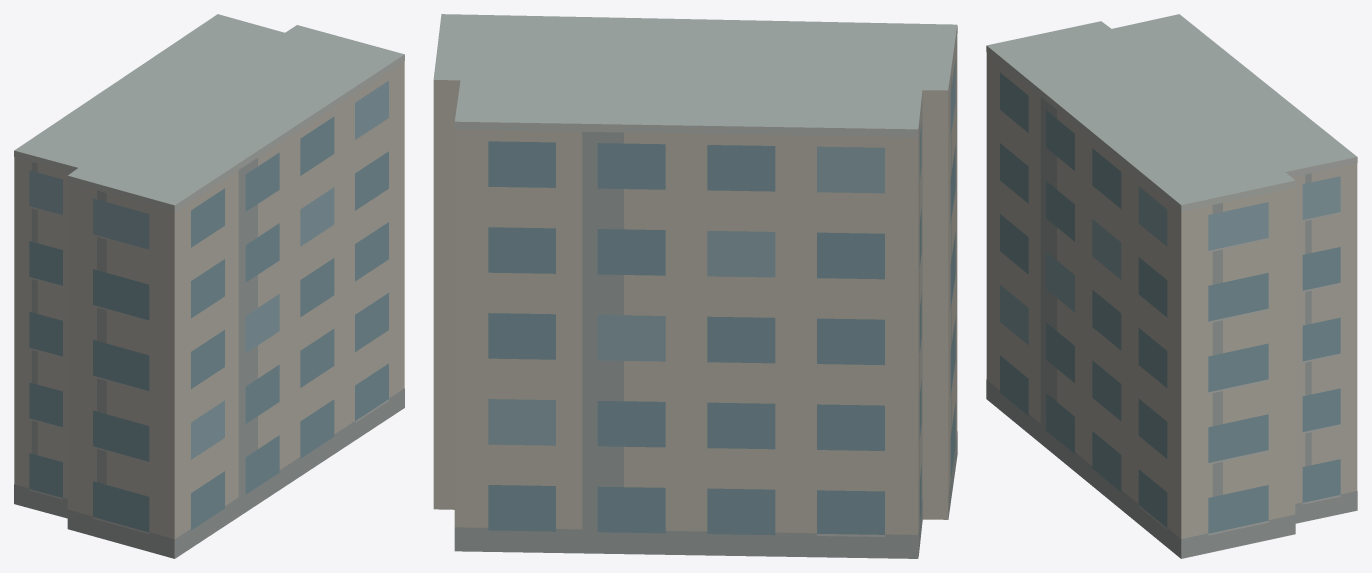
Rendered from survey-upis-32744741.glb.
3 views of the same model, side by side, from view 1: azimuth 30°, elevation 25°; view 2: azimuth 150°, elevation 25°; view 3: azimuth 270°, elevation 25° (orthographic). The views are drawn at different scales.
Parts seen in each view (by area): view 1: survey-upis-32744741.tmp; view 2: survey-upis-32744741.tmp; view 3: survey-upis-32744741.tmp.
Boxes of the visible parts, <box> form: survey-upis-32744741.tmp: <box>14,14,404,558</box>; survey-upis-32744741.tmp: <box>433,14,957,558</box>; survey-upis-32744741.tmp: <box>986,14,1357,558</box>.
Bounding box in the file's own units: 15.2 × 13.1 × 12.46.
